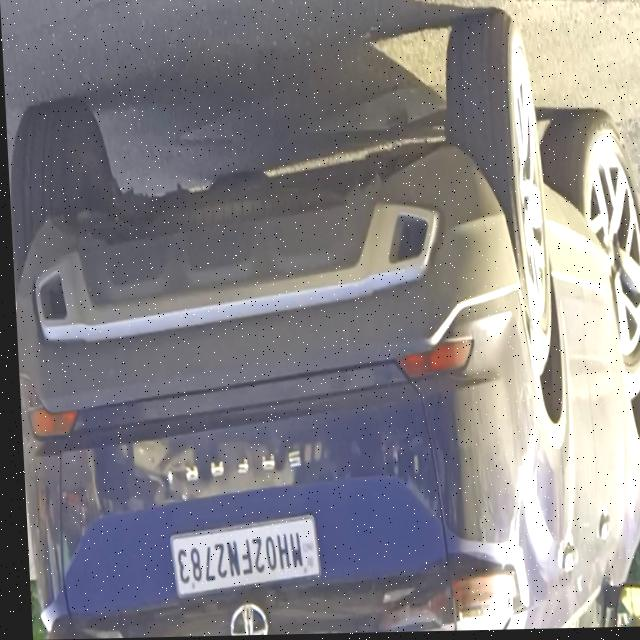plate: (162, 515, 316, 599)
